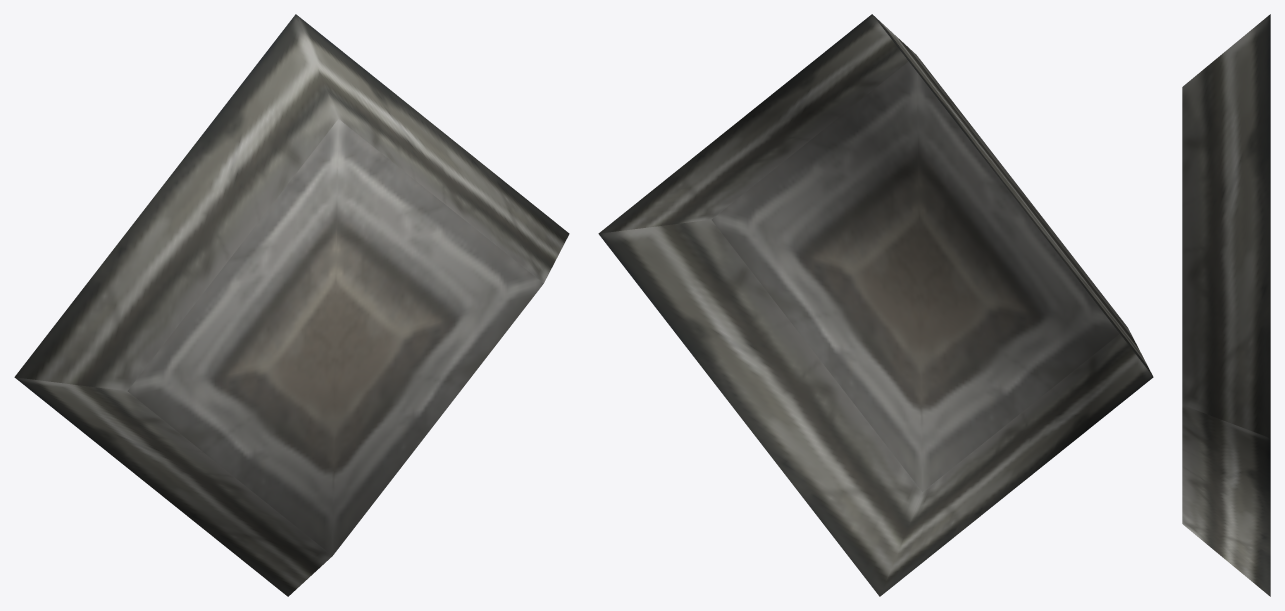
The model's file is unity_dungeon_deco03.FBX.
3 renders of one model, left to right at view 1: azimuth 30°, elevation 25°; view 2: azimuth 150°, elevation 25°; view 3: azimuth 270°, elevation 25°, orthographic.
Visible parts, largest first — view 1: unity_dungeon_deco03; view 2: unity_dungeon_deco03; view 3: unity_dungeon_deco03.
Boxes of the visible parts, box(x1,y1,x2,y2) form: unity_dungeon_deco03: box(14, 14, 569, 596); unity_dungeon_deco03: box(598, 14, 1153, 596); unity_dungeon_deco03: box(1182, 14, 1270, 596).
Size of the model in its own units: 2.42 by 2.42 by 0.329.
